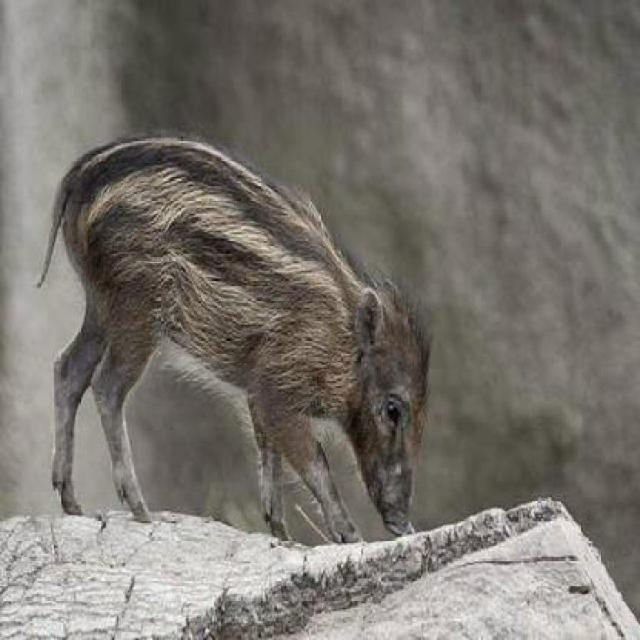Boar: (31, 114, 475, 568)
